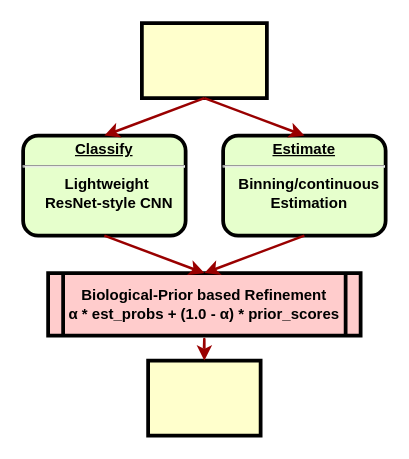
Image size: 409x459. Some labels were removed from this diagram. Here are the shapes that lost their labels. From the top down, the centre of each, then its label:
At pixel 203 60: "Source Images".
At pixel 204 397: "Final Output".
